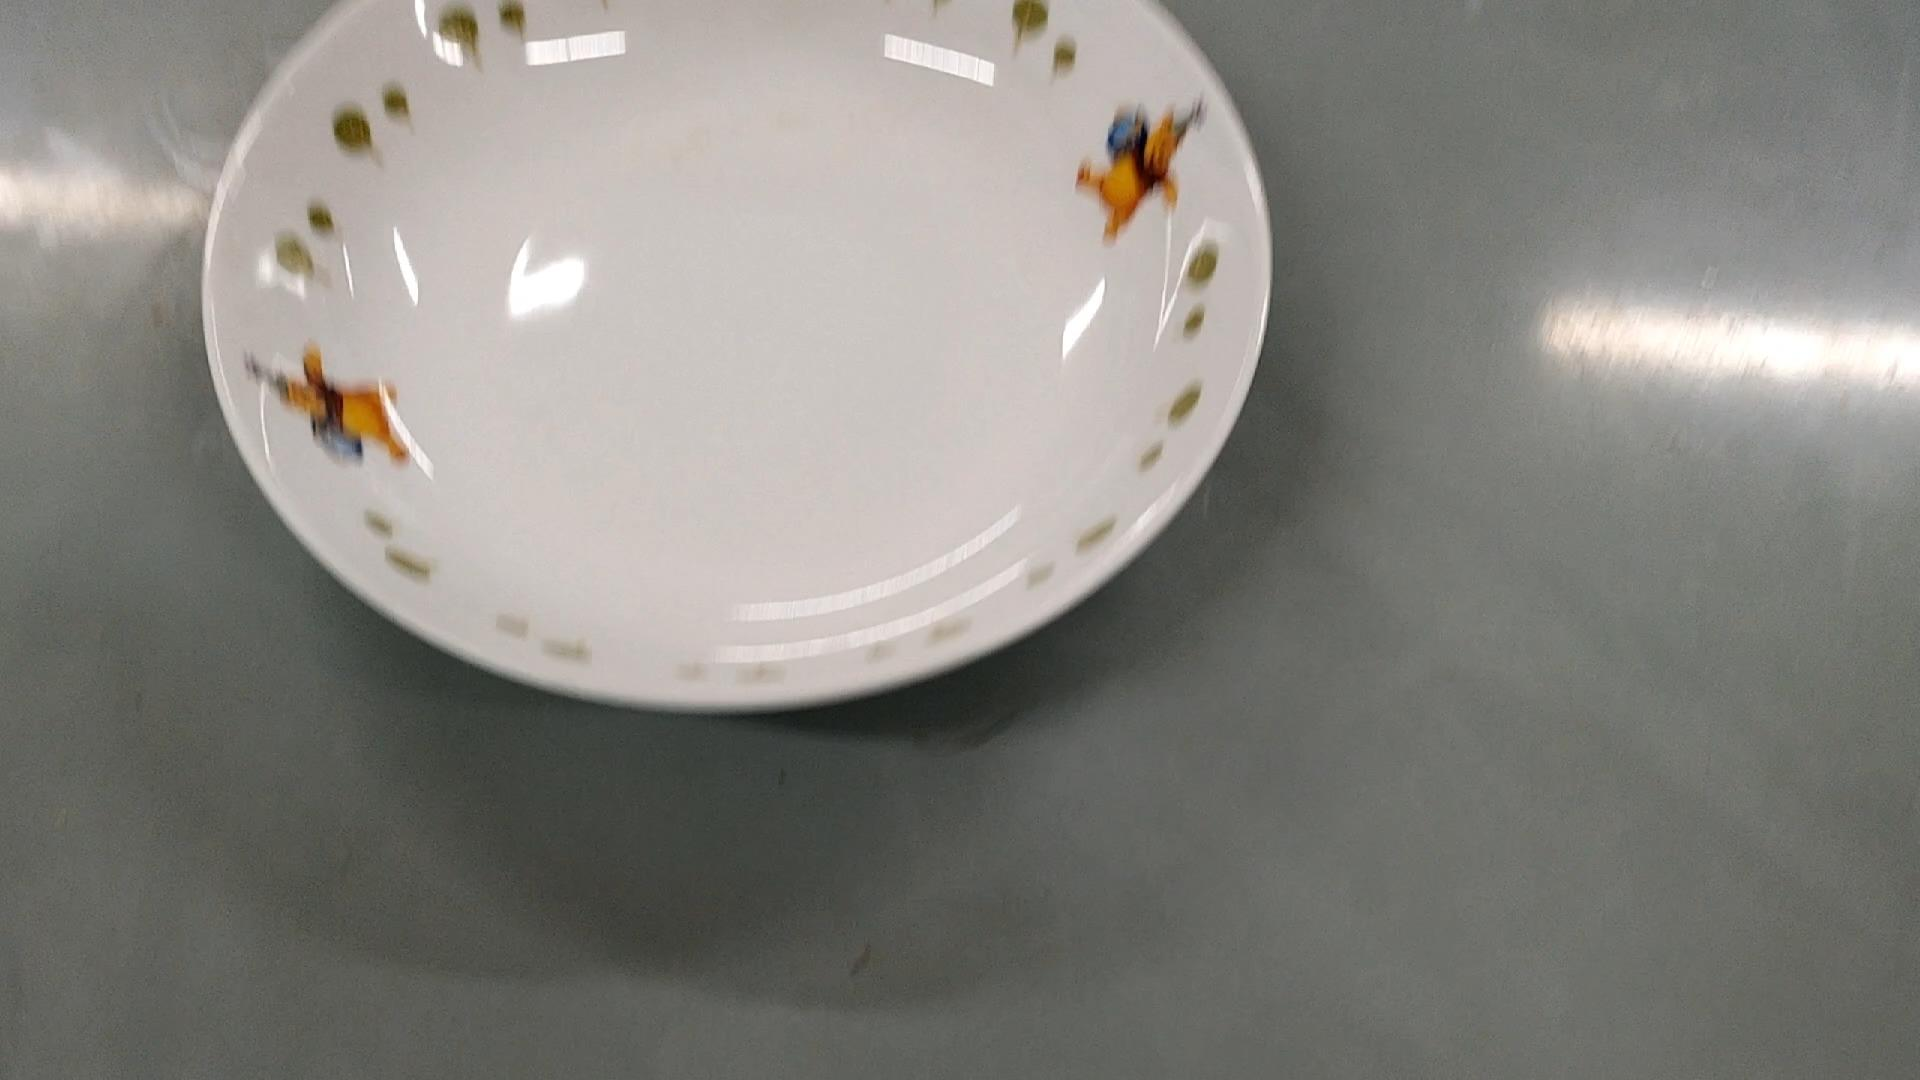plate: (206, 0, 1269, 713)
